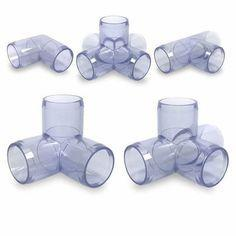PVC: (116, 82, 236, 193), (3, 86, 117, 197), (149, 19, 236, 79), (0, 22, 77, 82)
